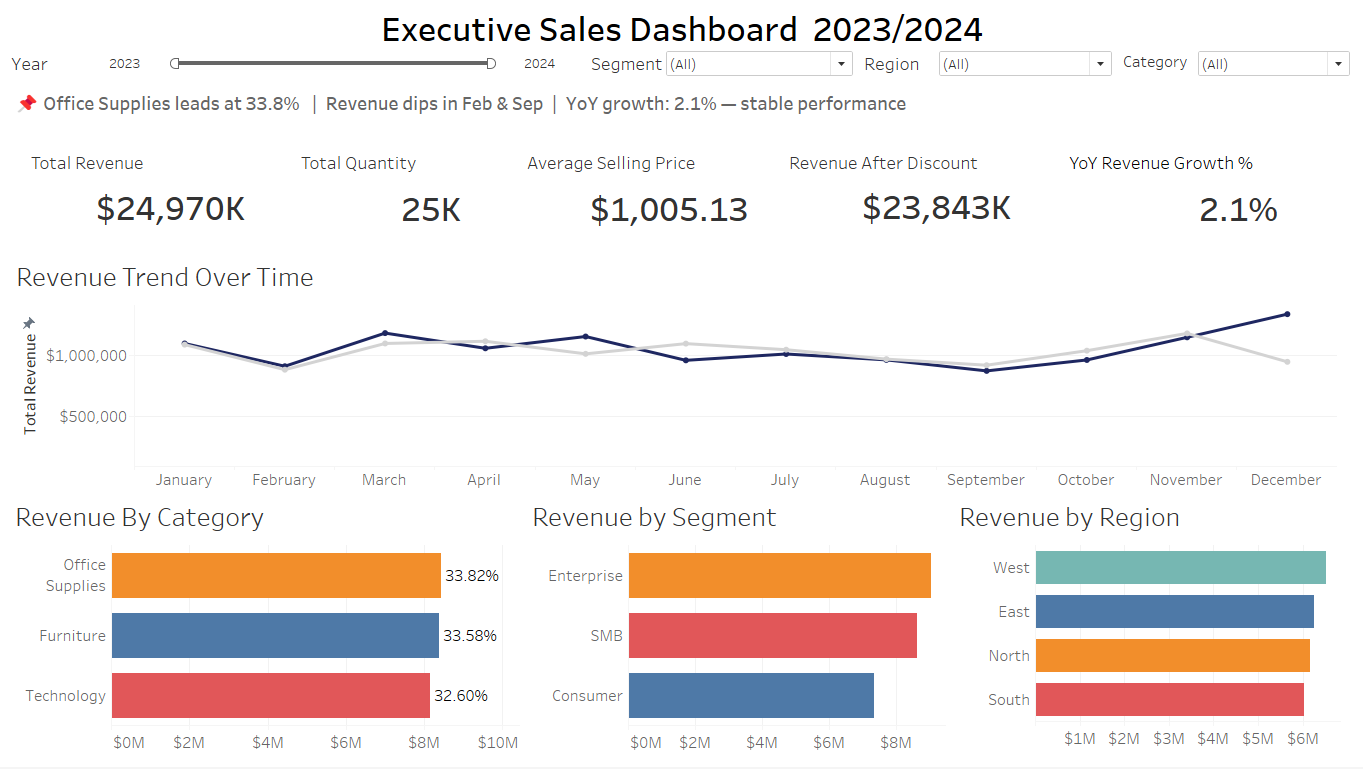

This screenshot's page, from the dashboard's own definition file:
{"tool":"tableau","page":{"name":"Executive Summary","canvas":[1366,768],"ordinal":0},"visuals":[{"type":"text","box":[8,8,1350,45]},{"type":"worksheet","title":"Total Revenue","mark":"Text","box":[24,69,270,95]},{"type":"worksheet","title":"Total Quantity","mark":"Text","box":[294,69,226,95]},{"type":"worksheet","title":"Average Selling Price","mark":"Text","box":[520,69,262,95]},{"type":"worksheet","title":"Revenue After Discount","mark":"Text","box":[782,69,280,95]},{"type":"worksheet","title":"YoY Revenue Growth","mark":"Text","box":[1062,69,280,95]},{"type":"worksheet","title":"Revenue Trend Over Time","mark":"Line","rows":["Calculation_1305199522487545856"],"cols":["MonthName"],"box":[8,180,1350,312]},{"type":"worksheet","title":"Category Performance","mark":"Bar","rows":["Category"],"cols":["Calculation_1305199522487545856"],"box":[8,492,517,268]},{"type":"worksheet","title":"Segment Breakdown","mark":"Bar","rows":["Segment"],"cols":["Calculation_1305199522487545856"],"box":[525,492,426.5,268]},{"type":"worksheet","title":"Regional Performance","mark":"Bar","rows":["Region (Sales.csv)"],"cols":["Calculation_1305199522487545856"],"box":[951.5,492,406.5,268]}]}

Visuals, with their boxes in screenshot pixels (x1, y1, x2, y2), scaled from the page's 1366x768 canvas onto the 1363x769 screenshot:
text: locate(8, 8, 1355, 53)
"Total Revenue" worksheet (Text marks): locate(24, 69, 293, 164)
"Total Quantity" worksheet (Text marks): locate(293, 69, 519, 164)
"Average Selling Price" worksheet (Text marks): locate(519, 69, 780, 164)
"Revenue After Discount" worksheet (Text marks): locate(780, 69, 1060, 164)
"YoY Revenue Growth" worksheet (Text marks): locate(1060, 69, 1339, 164)
"Revenue Trend Over Time" worksheet (Line marks): locate(8, 180, 1355, 493)
"Category Performance" worksheet (Bar marks): locate(8, 493, 524, 761)
"Segment Breakdown" worksheet (Bar marks): locate(524, 493, 949, 761)
"Regional Performance" worksheet (Bar marks): locate(949, 493, 1355, 761)
